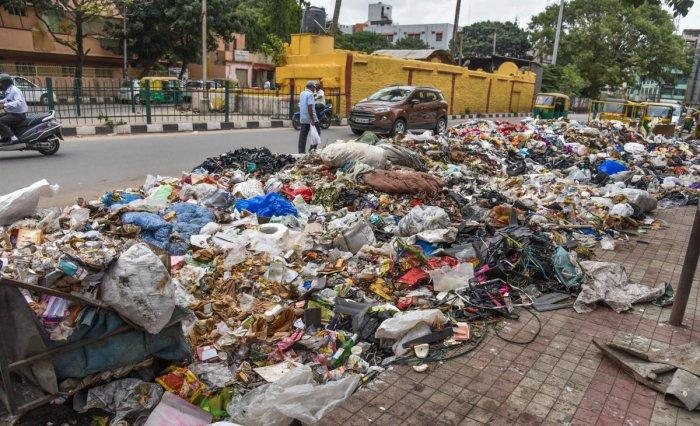garbage: (0, 116, 700, 426)
